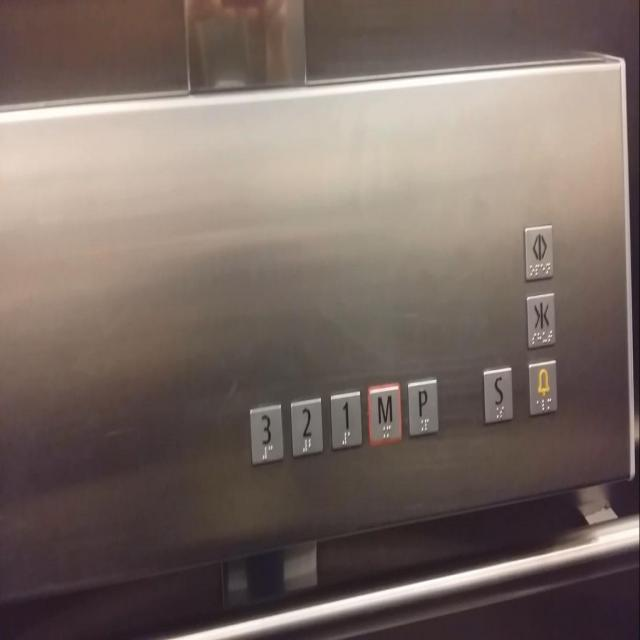1: (328, 389, 363, 451)
2: (288, 394, 324, 458)
3: (248, 400, 285, 463)
M: (366, 382, 403, 446)
P: (406, 376, 439, 438)
S: (481, 365, 515, 423)
alarm: (528, 357, 558, 415)
close: (525, 291, 556, 351)
open: (523, 224, 554, 283)
